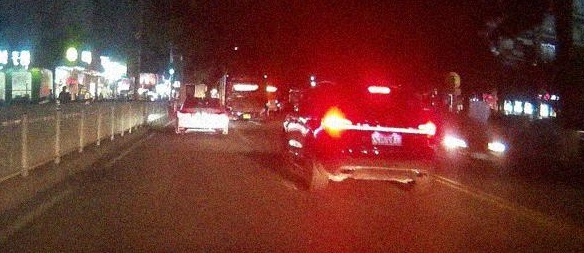L_light: (321, 109, 352, 135)
R_light: (417, 119, 437, 137)
T_light: (367, 86, 390, 94)
night-left: (313, 81, 437, 194)
